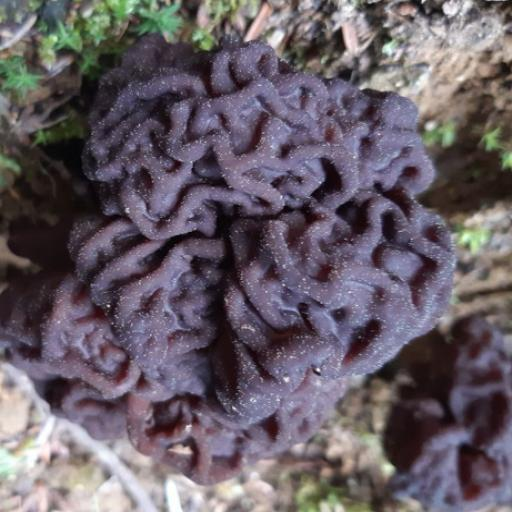mushroom: (0, 0, 503, 512)
